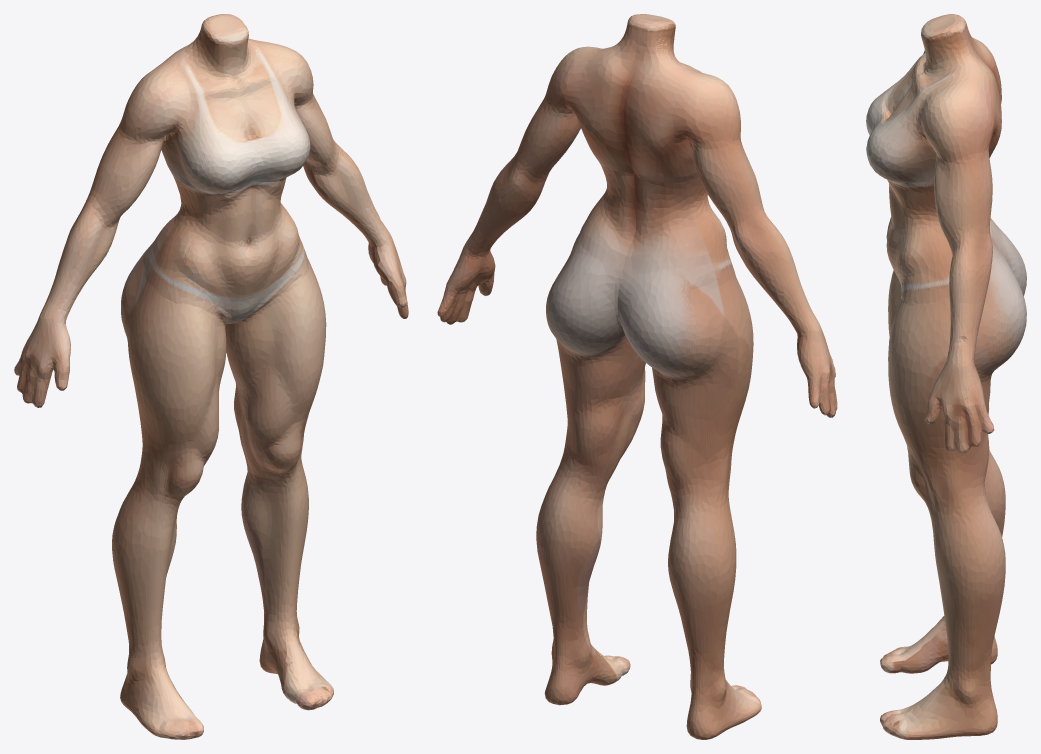
The model's file is shared_female_source.glb.
3 views of the same model, side by side, from view 1: azimuth 30°, elevation 25°; view 2: azimuth 150°, elevation 25°; view 3: azimuth 270°, elevation 25° (orthographic).
Visible parts, largest first — view 1: temp_mesh.ply; view 2: temp_mesh.ply; view 3: temp_mesh.ply.
Part boxes in pixels (x1,y1,x2,y2): temp_mesh.ply: (14, 14, 408, 739); temp_mesh.ply: (437, 14, 837, 739); temp_mesh.ply: (866, 14, 1026, 739).
Size of the model in its own units: 1.16 by 1.97 by 0.4225.
1 material, 1 textured.
